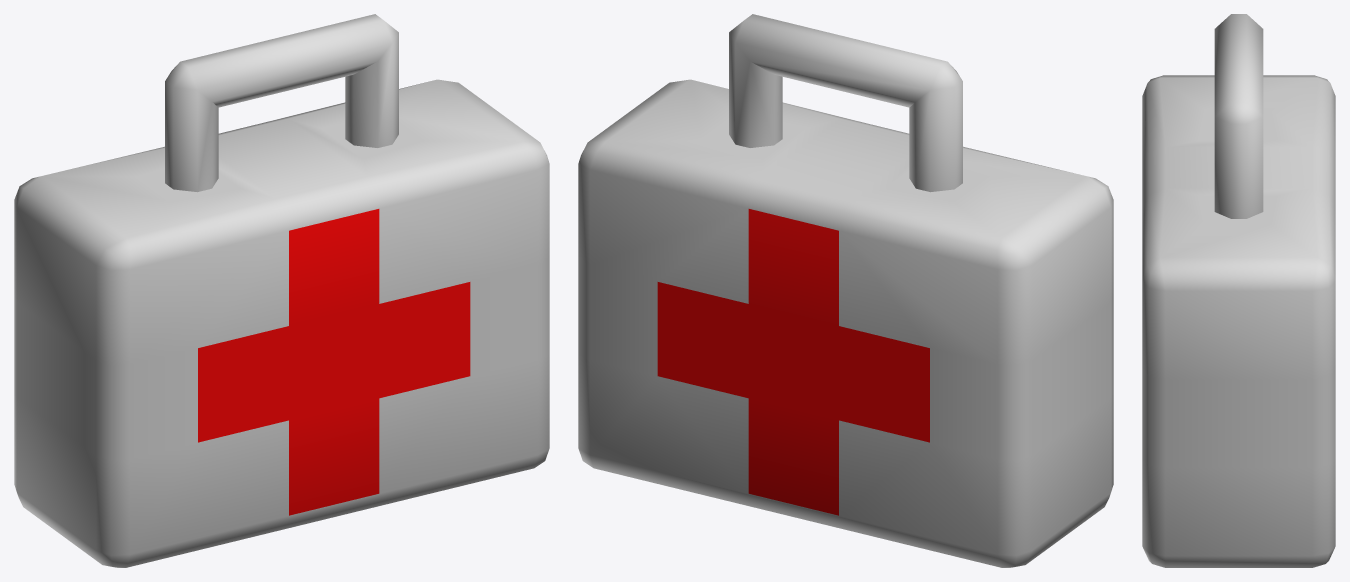
File: health kit.fbx
3 renders of one model, left to right at view 1: azimuth 30°, elevation 25°; view 2: azimuth 150°, elevation 25°; view 3: azimuth 270°, elevation 25°, orthographic. The views are drawn at different scales.
Visible parts, largest first — view 1: Cube; view 2: Cube; view 3: Cube.
Boxes of the visible parts, x1,y1,x2,y2 form: Cube: (14,14,549,567); Cube: (578,14,1113,567); Cube: (1142,14,1335,567).
Bounding box in the file's own units: 1 × 0.95 × 0.4.
